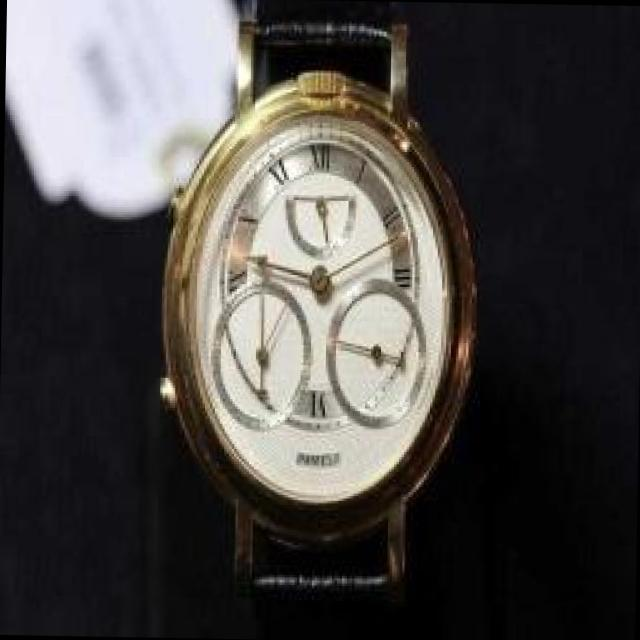saat: (129, 0, 485, 640)
